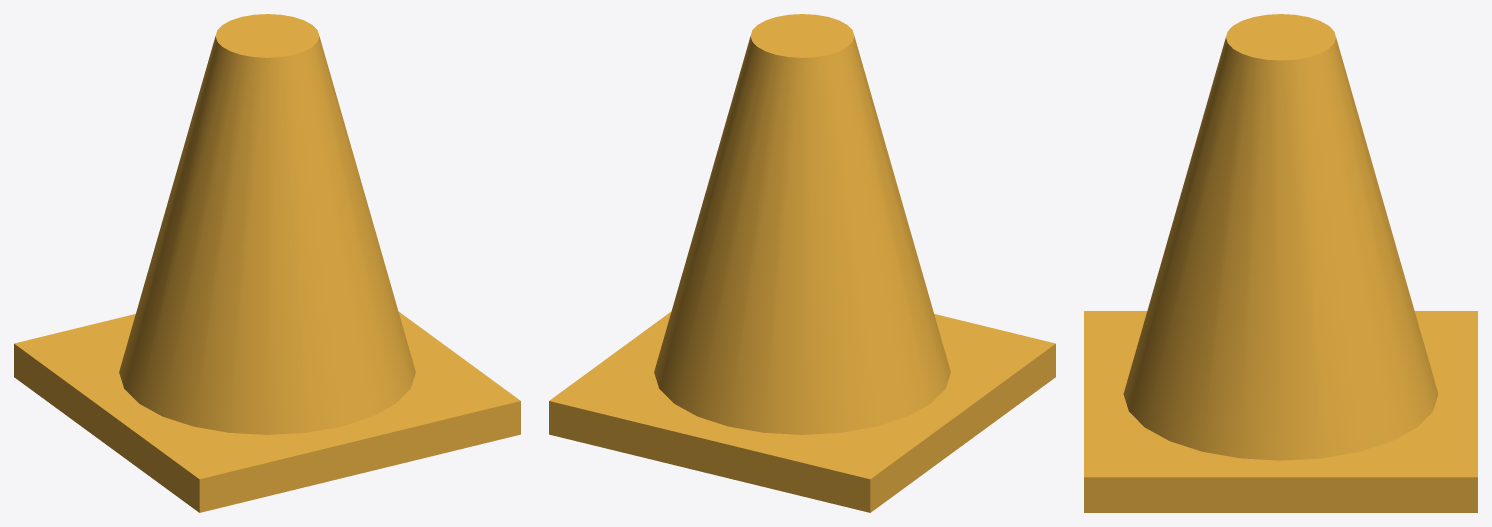
The model's file is pylon.glb.
3 renders of one model, left to right at view 1: azimuth 30°, elevation 25°; view 2: azimuth 150°, elevation 25°; view 3: azimuth 270°, elevation 25°, orthographic. The views are drawn at different scales.
Visible parts, largest first — view 1: pylon; view 2: pylon; view 3: pylon.
Part boxes in pixels (bbox=[...]): pylon: bbox=[14, 14, 520, 512]; pylon: bbox=[549, 14, 1055, 512]; pylon: bbox=[1084, 14, 1477, 512].
Bounding box in the file's own units: 0.12 × 0.132 × 0.12.
